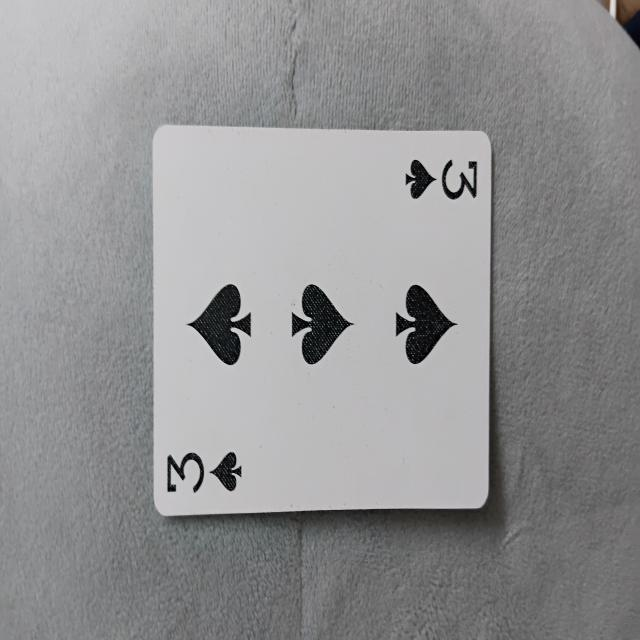3S: (156, 126, 493, 524)
